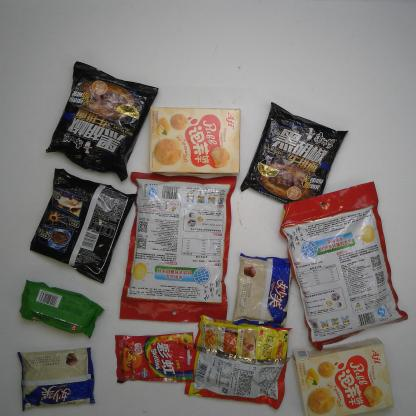Candy: (114, 331, 199, 386)
Dessert: (293, 339, 396, 415), (147, 104, 243, 176), (14, 346, 96, 414), (17, 278, 104, 338), (233, 254, 296, 328)
Instant Drink: (279, 181, 410, 349), (119, 171, 238, 323)
Instant Noodles: (43, 60, 160, 180), (30, 164, 138, 284), (239, 102, 350, 206), (185, 312, 293, 410)
